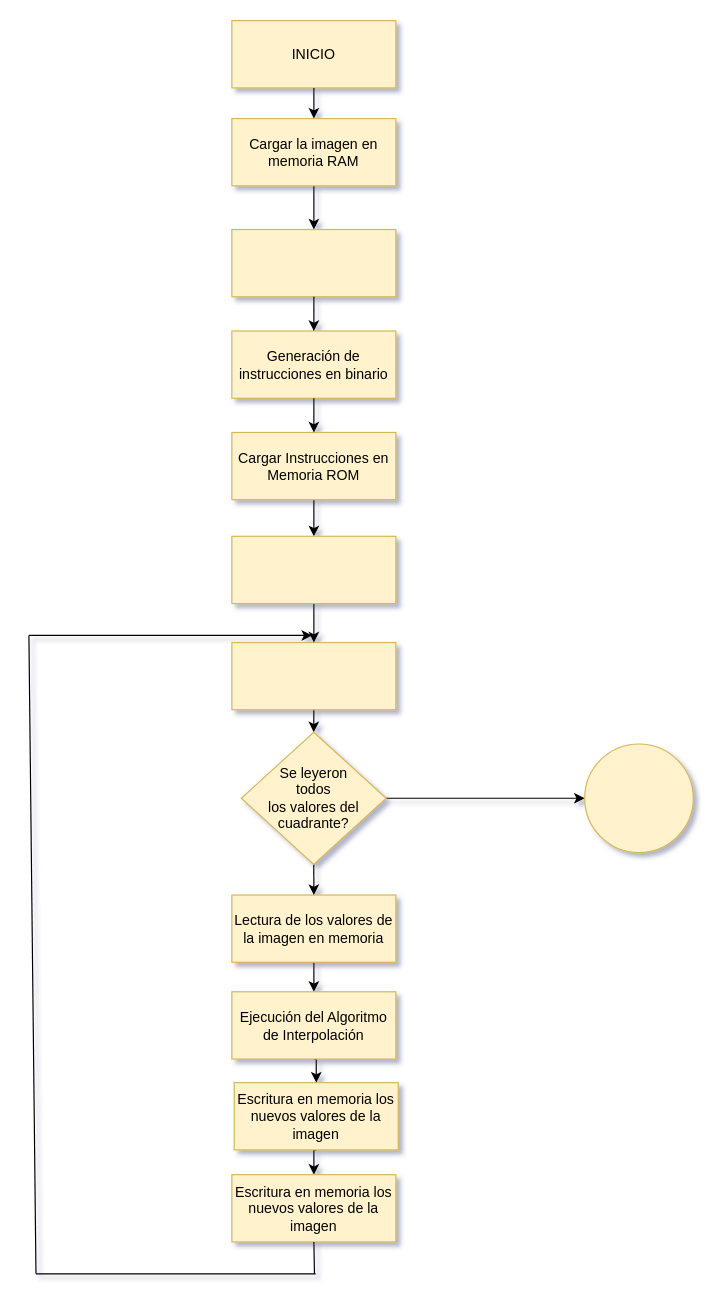
The diagram is 721 pixels wide and 1303 high, and some of its shapes have lost their labels. Here are the shapes that lost their labels. From the top down, the centre of each, then its label:
At point (313, 262): "Lectura de instrucciones del txt".
At point (313, 569): "Selección del cuadrante a utilizar".
At point (313, 675): "Lectura de Instrucciones".
At point (638, 798): "FIN".
